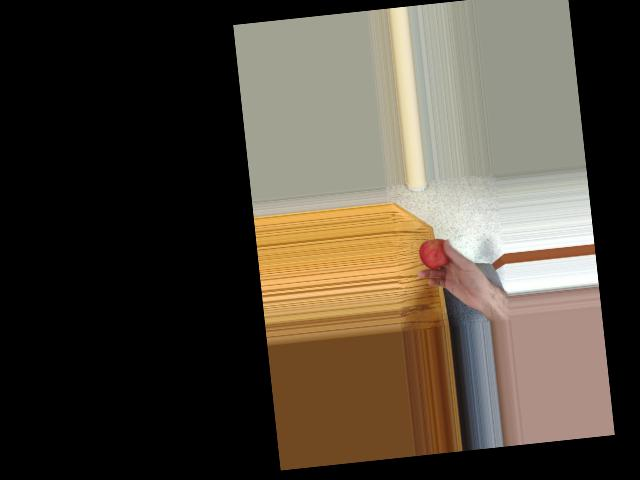apple: (416, 234, 451, 272)
